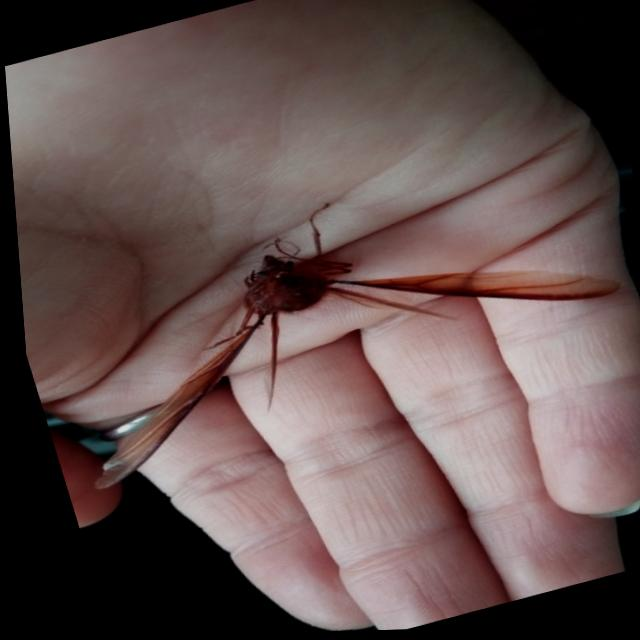Alive-Male-Alate: (19, 137, 640, 493)
